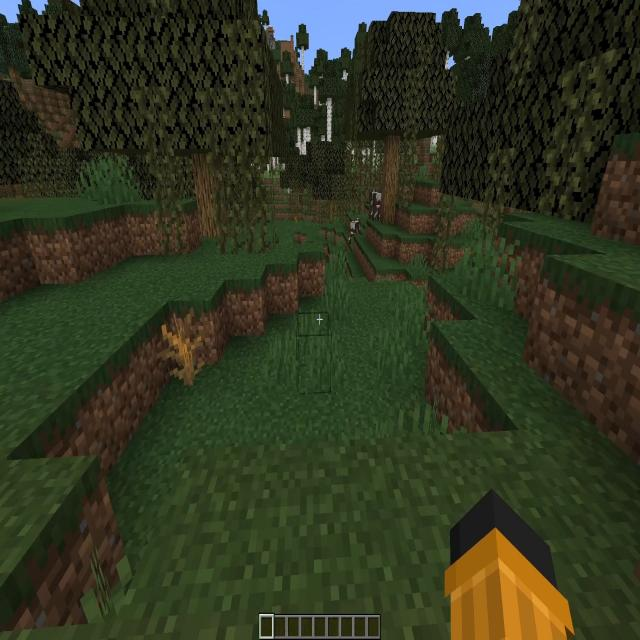Cow: (369, 190, 382, 222), (349, 218, 358, 241)
